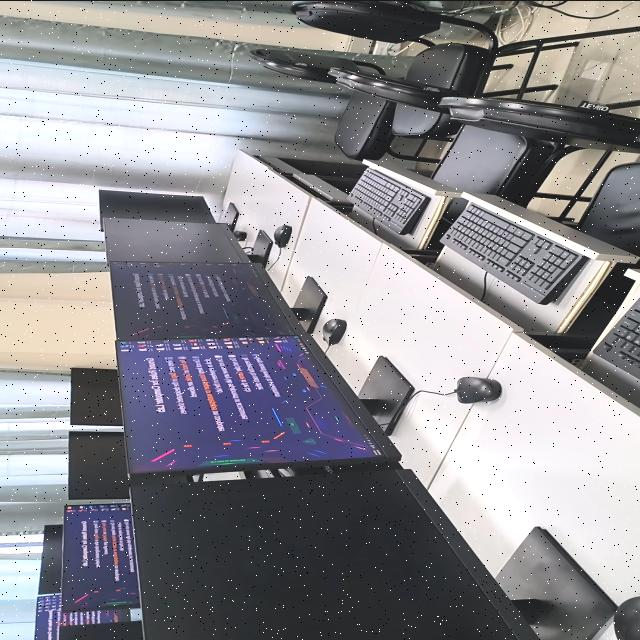Chair: (291, 0, 640, 99), (429, 96, 640, 256), (249, 46, 395, 159), (430, 127, 576, 205), (320, 70, 442, 114), (371, 93, 441, 134)
Keyboard: (441, 203, 582, 302), (349, 166, 430, 234), (592, 296, 640, 378)
Monitor: (132, 467, 617, 640), (116, 331, 414, 473), (110, 261, 326, 339), (68, 430, 192, 499), (104, 216, 272, 265), (63, 503, 139, 610), (100, 189, 238, 230), (35, 593, 130, 640), (70, 367, 122, 424), (39, 523, 63, 593), (60, 620, 142, 640)
Mouse: (455, 376, 501, 402), (614, 596, 640, 640), (322, 317, 346, 345), (274, 224, 291, 247)
